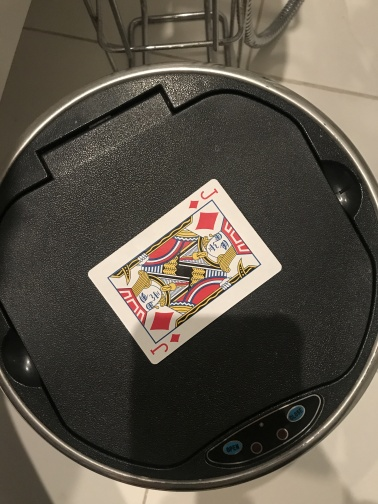jack: (86, 177, 284, 367)
